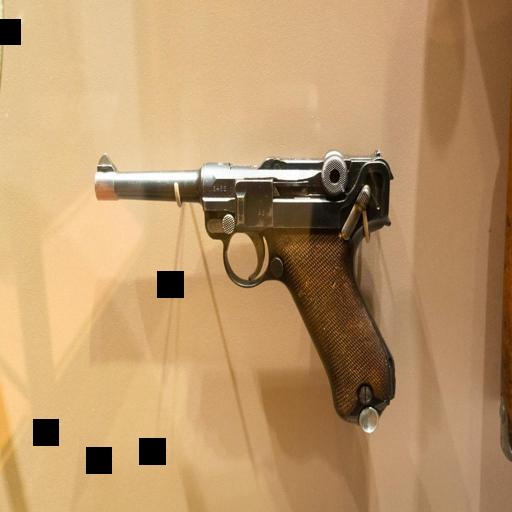Handgun: (83, 141, 407, 440)
